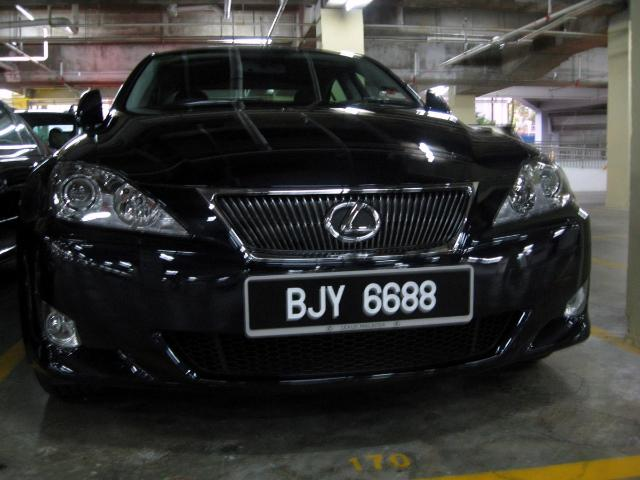License_Plate: (265, 278, 470, 329)
